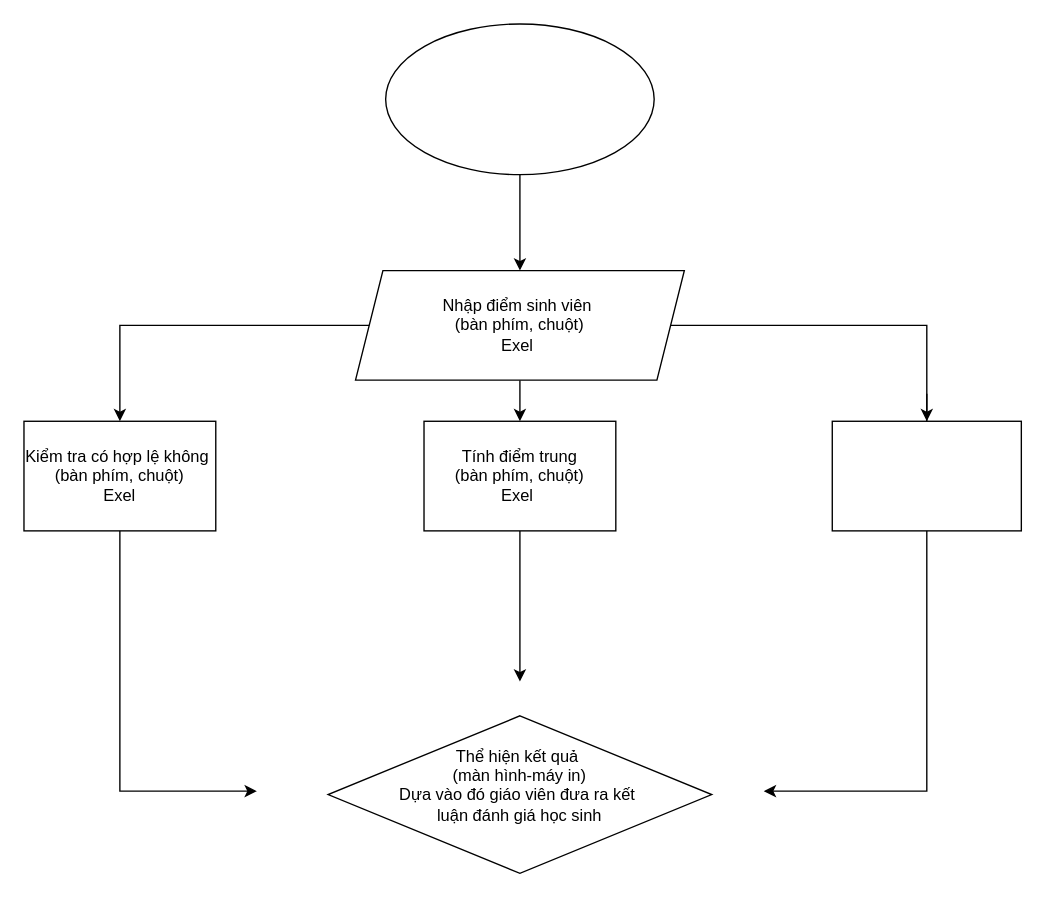
Image size: 1045x897. Some labels were removed from this diagram. Here are the shapes that lost their labels. From the top down, the centre of each, then its label:
At [519,99]: "INPUT (Exel + bàn phím) Họ tên hs Mã sv Lớp Điểm giữa kì + cuối kì".
At [926,475]: "Lưu vào hệ thống và xét loại kết quả học tập (bàn phím, chuột) Exel".
